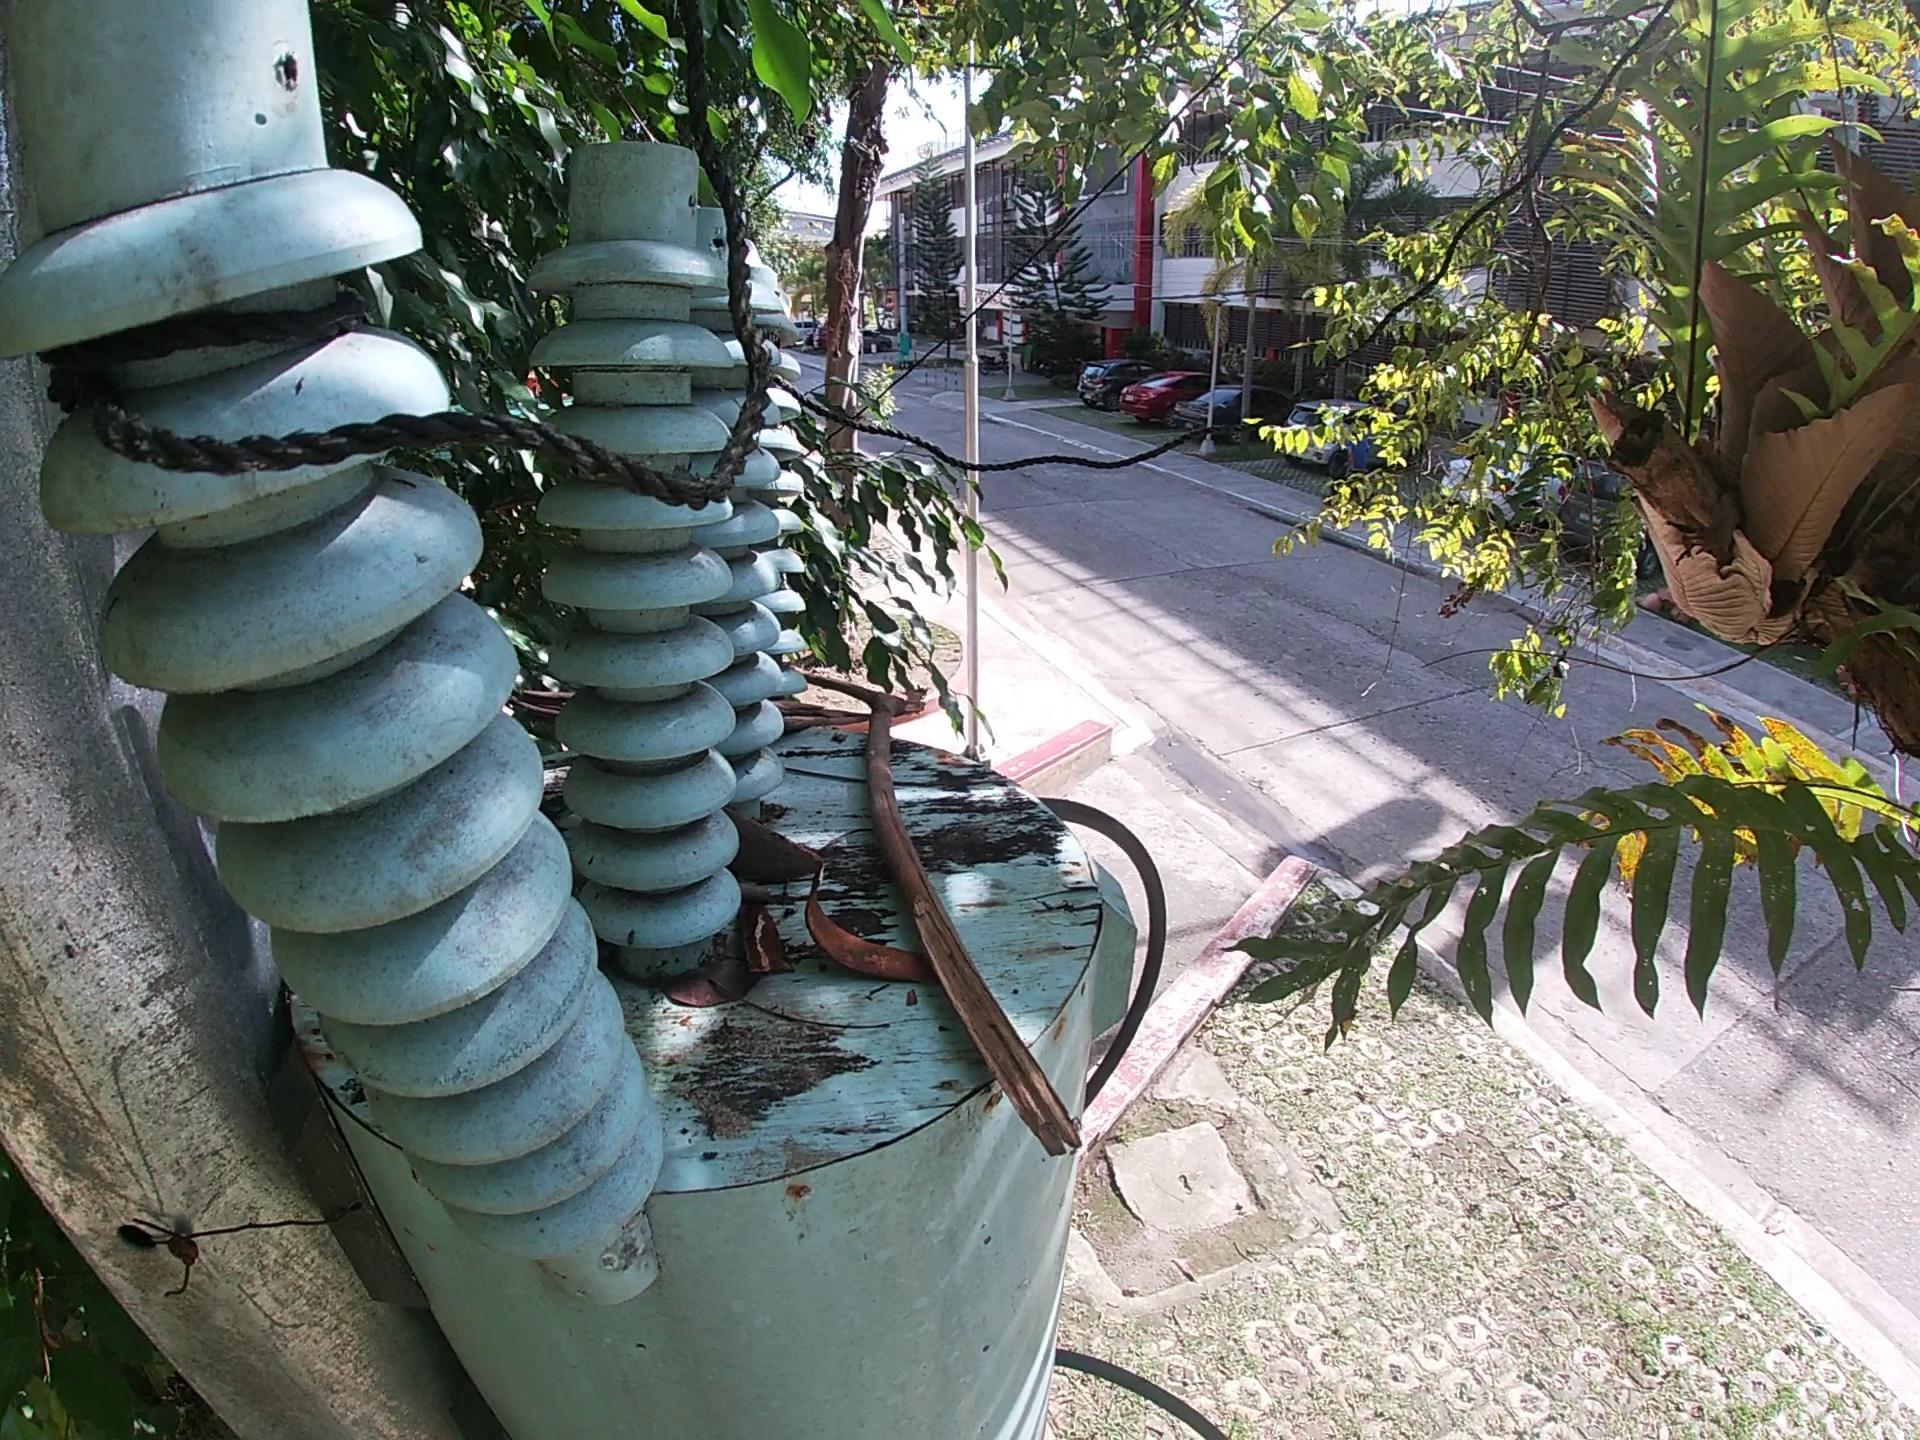leaf: (646, 939, 751, 1016)
mahogany fruit: (804, 859, 940, 988), (721, 808, 827, 888), (733, 903, 794, 980)
tree branch: (798, 670, 1089, 1162), (770, 699, 869, 734), (736, 886, 777, 906)
